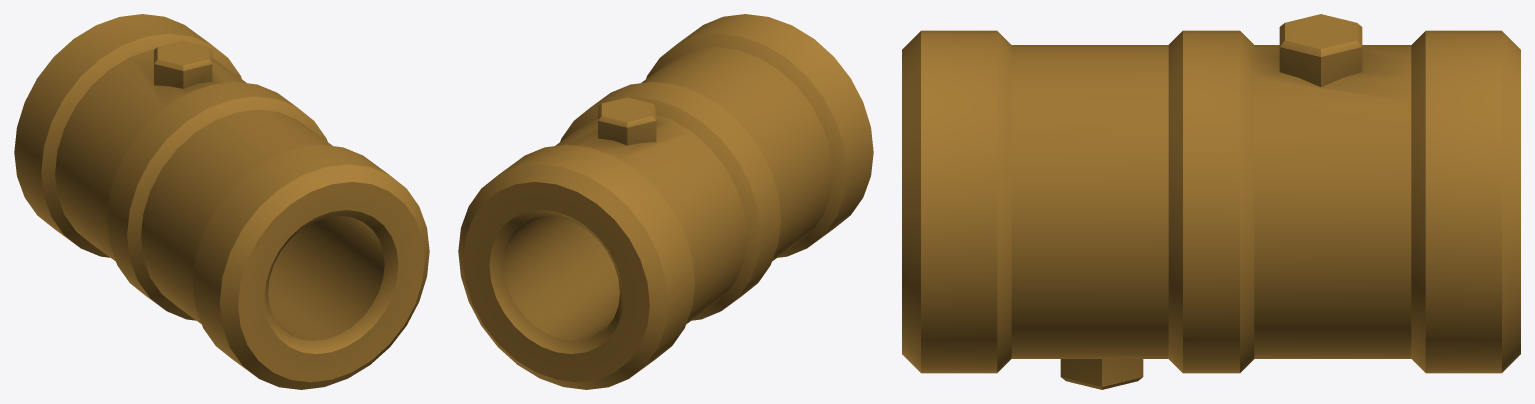
Rendered from coupling_rigid.glb.
The picture shows the model from 3 angles, left to right: view 1: azimuth 30°, elevation 25°; view 2: azimuth 150°, elevation 25°; view 3: azimuth 270°, elevation 25°; orthographic projection. The views are drawn at different scales.
Parts seen in each view (by area): view 1: Coupling_Rigid; view 2: Coupling_Rigid; view 3: Coupling_Rigid.
Part boxes in pixels (left/top/right/bottom): Coupling_Rigid: left=14, top=14, right=429, bottom=389; Coupling_Rigid: left=458, top=14, right=873, bottom=389; Coupling_Rigid: left=902, top=14, right=1520, bottom=389.
Bounding box in the file's own units: 0.0144 × 0.0158 × 0.026.
